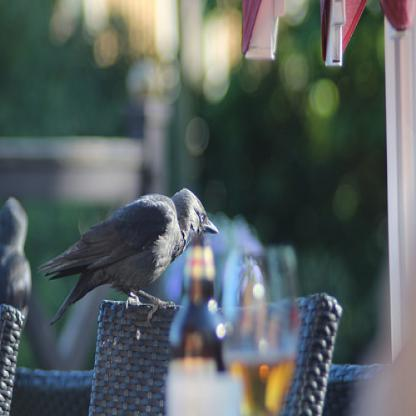TULIP: (240, 14, 416, 147)
